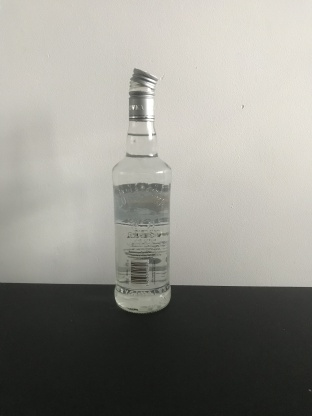nakretka: (127, 65, 159, 121)
